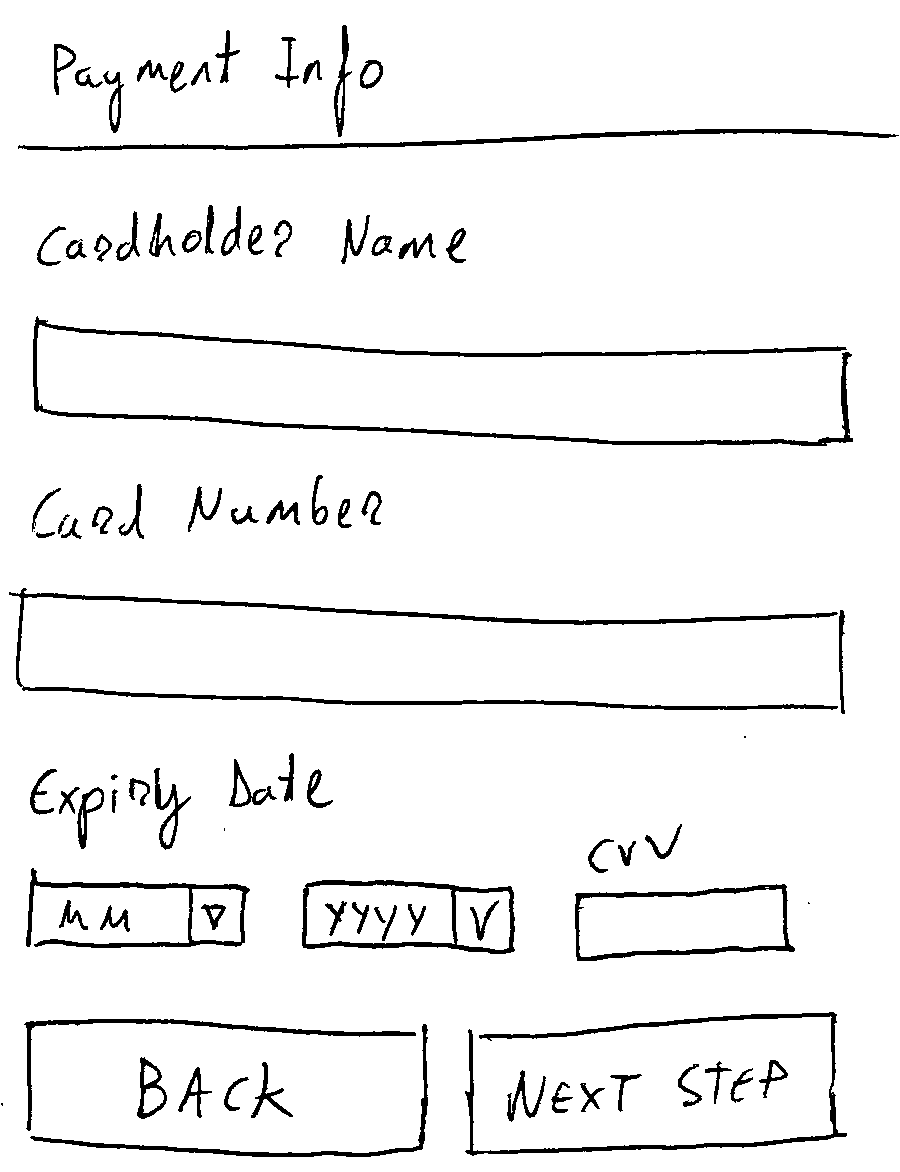Button: (20, 1010, 436, 1160), (461, 1006, 848, 1157)
Textbox: (25, 308, 862, 456), (7, 583, 854, 717), (566, 881, 802, 958)
